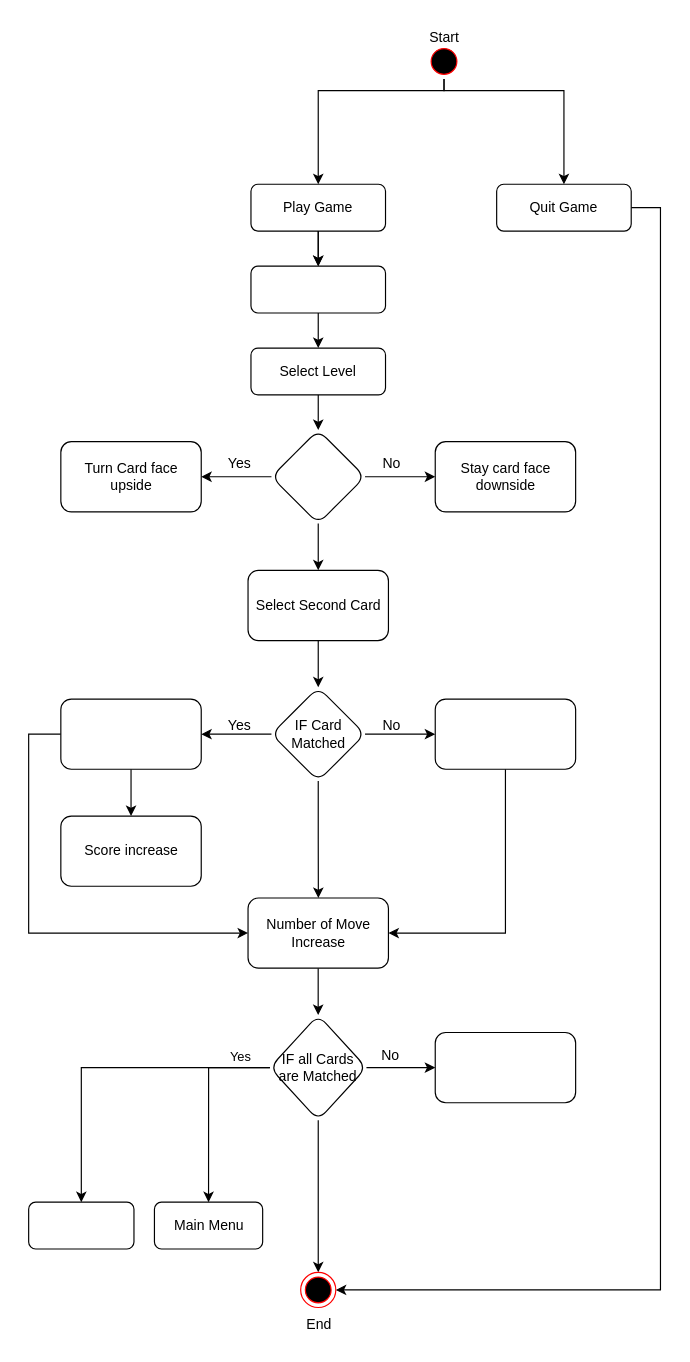
Some shapes in this 690 by 1362 pixel diagram are drawn without their labels. The box of each missing label's shape, as (x1, y1, x2, y2) in pixels:
IF Card clicked: (270, 429, 365, 524)
Play Again: (27, 1201, 134, 1249)
Player can continue find pair: (434, 1031, 576, 1103)
Select Categories: (250, 265, 386, 313)
Stay turn face upside both card: (60, 698, 201, 769)
Turn face down side of both card: (434, 698, 576, 769)
